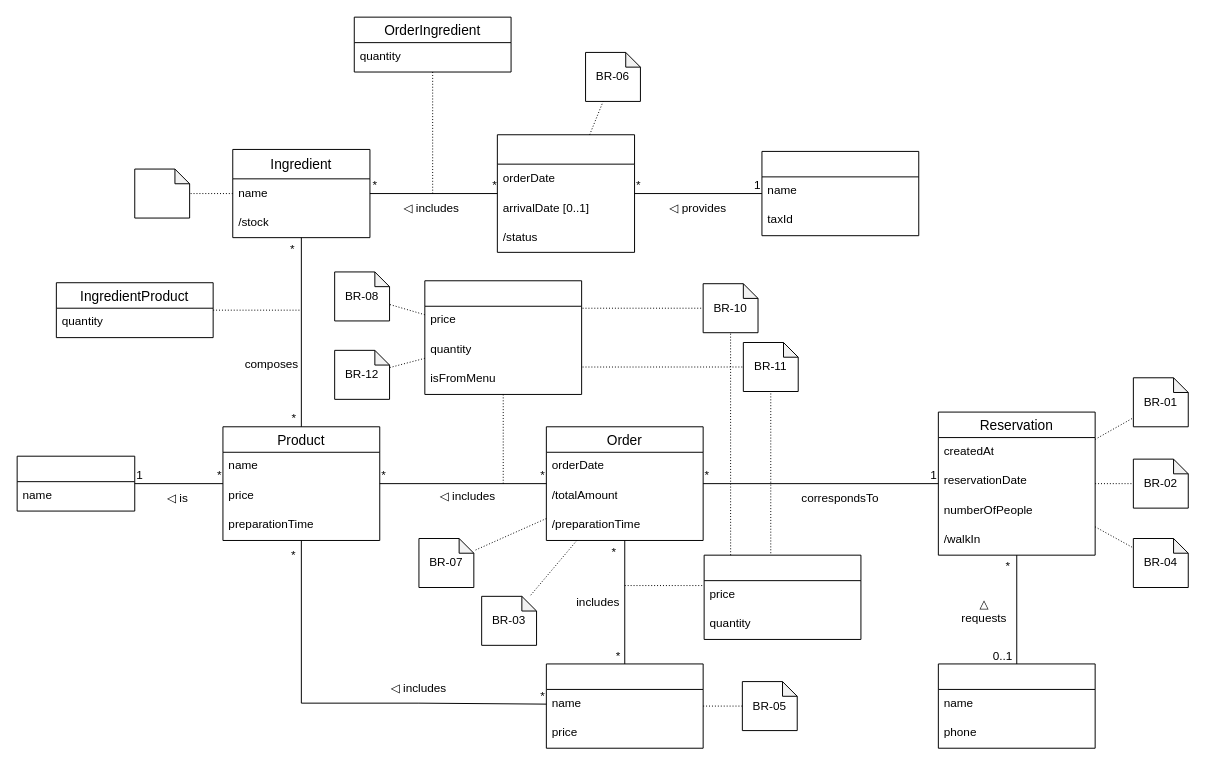
The diagram is 1205 pixels wide and 768 high, and some of its shapes have lost their labels. Each missing label, with the box of its shape:
BR-09: (134, 168, 190, 218)
Category: (16, 455, 135, 511)
Customer: (937, 663, 1095, 748)
Menu: (545, 663, 703, 748)
OrderItemMenu: (703, 554, 861, 639)
OrderItemProduct: (424, 280, 582, 394)
Supplier: (761, 150, 919, 236)
SupplierOrder: (496, 134, 635, 252)
